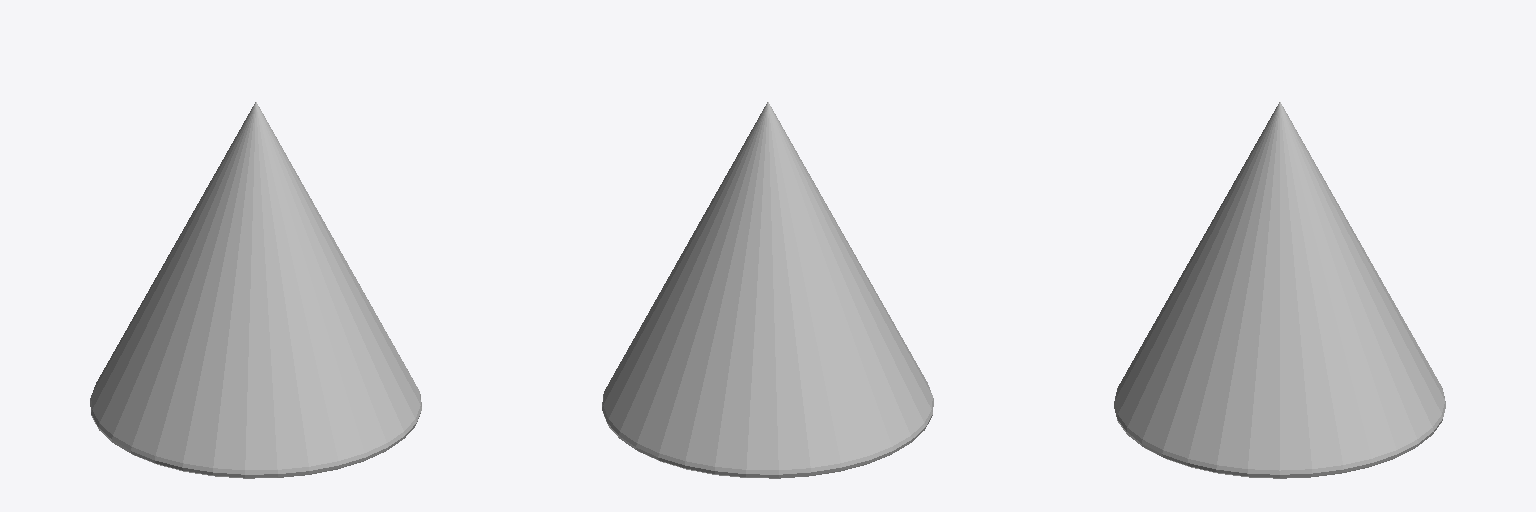
Rendered from conewmsp.obj.
The picture shows the model from 3 angles: view 1: azimuth 30°, elevation 25°; view 2: azimuth 150°, elevation 25°; view 3: azimuth 270°, elevation 25°; orthographic projection.
Visible parts, largest first — view 1: Cone.002; view 2: Cone.002; view 3: Cone.002.
Boxes of the visible parts, box(x1,y1,x2,y2) form: Cone.002: box(90, 102, 421, 478); Cone.002: box(602, 102, 933, 478); Cone.002: box(1114, 102, 1445, 478).
Size of the model in its own units: 1.95 by 2 by 1.95.